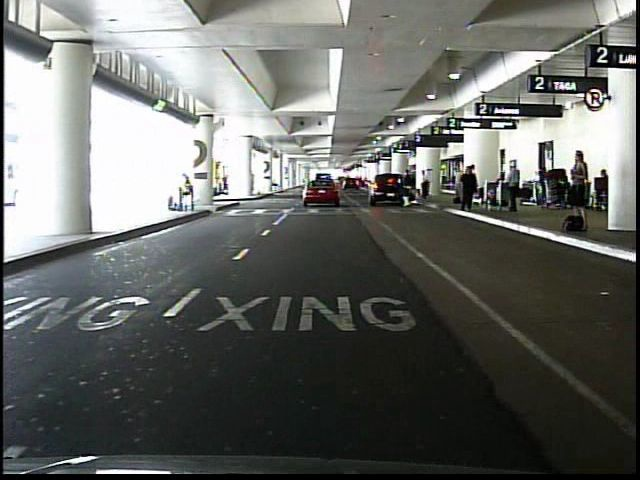person: (567, 148, 592, 216), (572, 160, 588, 214), (460, 164, 478, 211), (179, 173, 198, 216), (506, 162, 521, 213), (403, 167, 415, 209), (467, 163, 479, 203), (421, 168, 431, 201)
